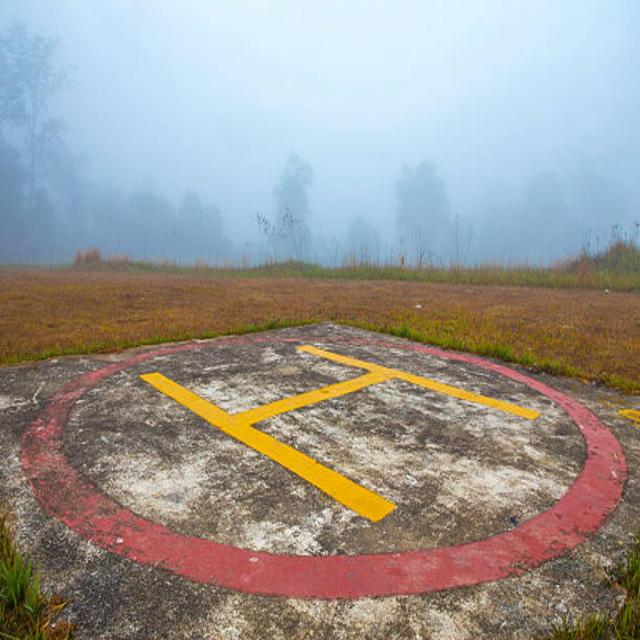helipad: (22, 331, 628, 598)
